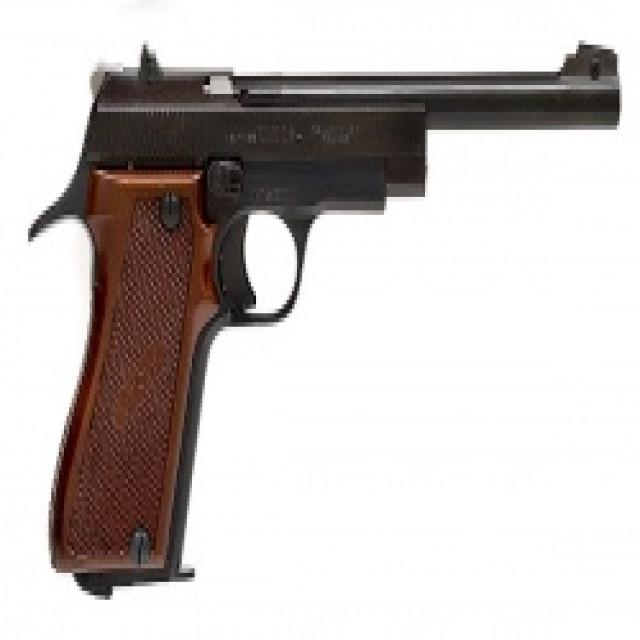pistol: (23, 33, 633, 616)
